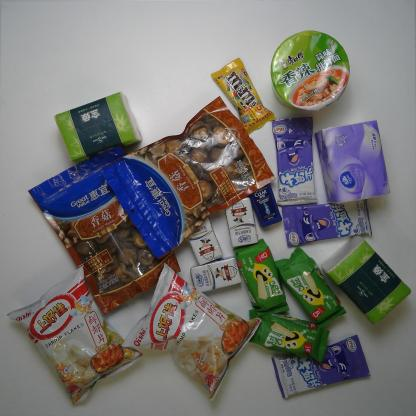Candy: (270, 330, 371, 401), (281, 199, 374, 248), (271, 116, 319, 208)
Chocolate: (210, 55, 274, 139)
Dessert: (274, 245, 346, 329), (242, 306, 332, 364), (230, 236, 290, 320)
Dried Food: (98, 95, 276, 259), (27, 141, 182, 316)
Instant Noodles: (269, 29, 351, 113)
Milk: (189, 254, 242, 294), (187, 214, 224, 266), (225, 197, 260, 248)
Personal Hygiene: (249, 182, 282, 228)
Puffed Food: (5, 261, 145, 409), (120, 262, 263, 405)
Tissue: (319, 234, 412, 328), (52, 91, 145, 164), (313, 119, 391, 205)
